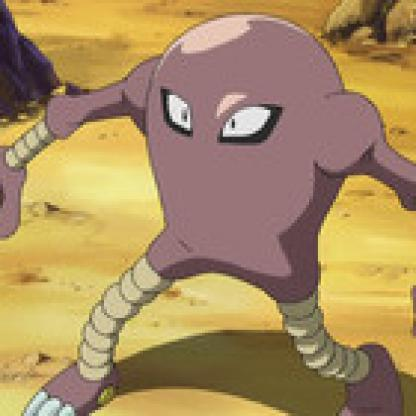Hitmonlee: (1, 25, 414, 414)
